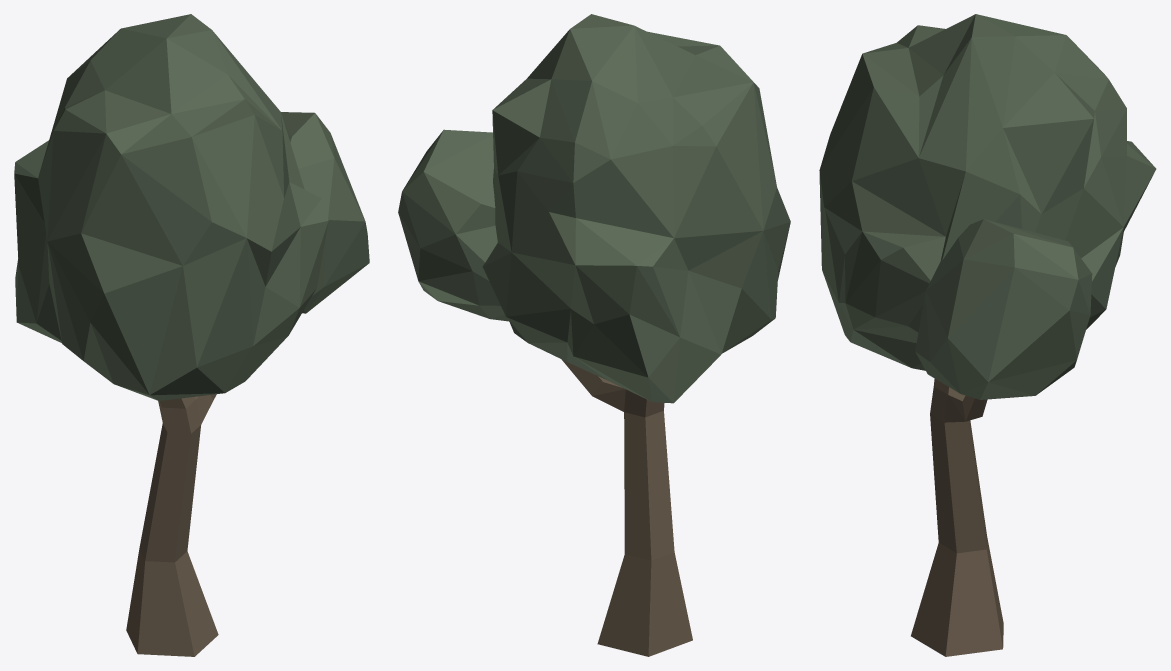
Rendered from SM_Generic_Tree_04.glb.
3 views of the same model, side by side, from view 1: azimuth 30°, elevation 25°; view 2: azimuth 150°, elevation 25°; view 3: azimuth 270°, elevation 25° (orthographic). The views are drawn at different scales.
Parts seen in each view (by area): view 1: SM_Generic_Tree_04; view 2: SM_Generic_Tree_04; view 3: SM_Generic_Tree_04.
Part boxes in pixels (box(x1,y1,x2,y2)): SM_Generic_Tree_04: box(14, 14, 369, 656); SM_Generic_Tree_04: box(398, 14, 790, 656); SM_Generic_Tree_04: box(819, 14, 1156, 656).
Size of the model in its own units: 1.82 by 3.22 by 1.54.
1 material, 1 textured.
